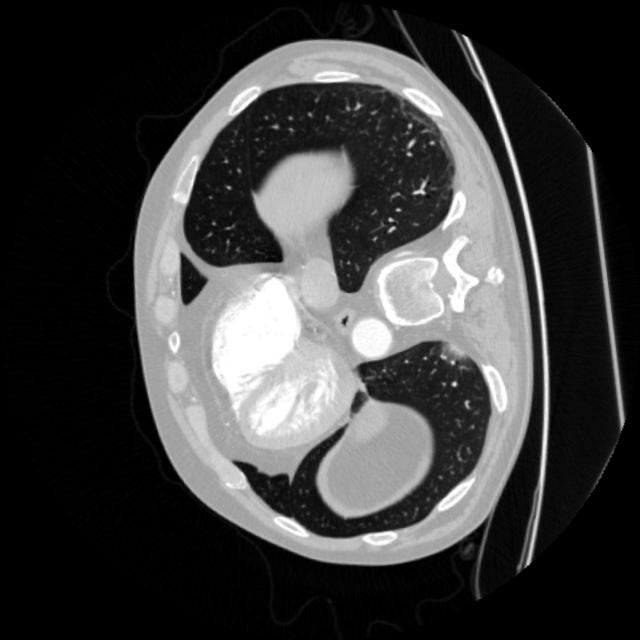nodule: (420, 318, 484, 382)
